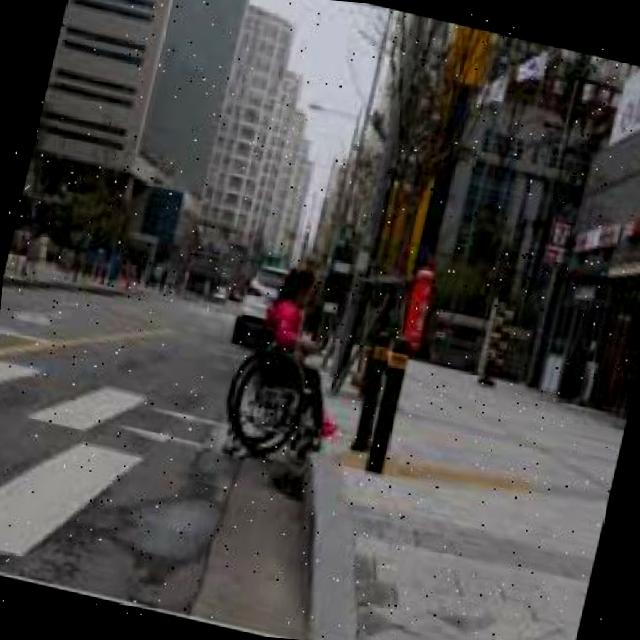Person: (214, 258, 368, 480)
